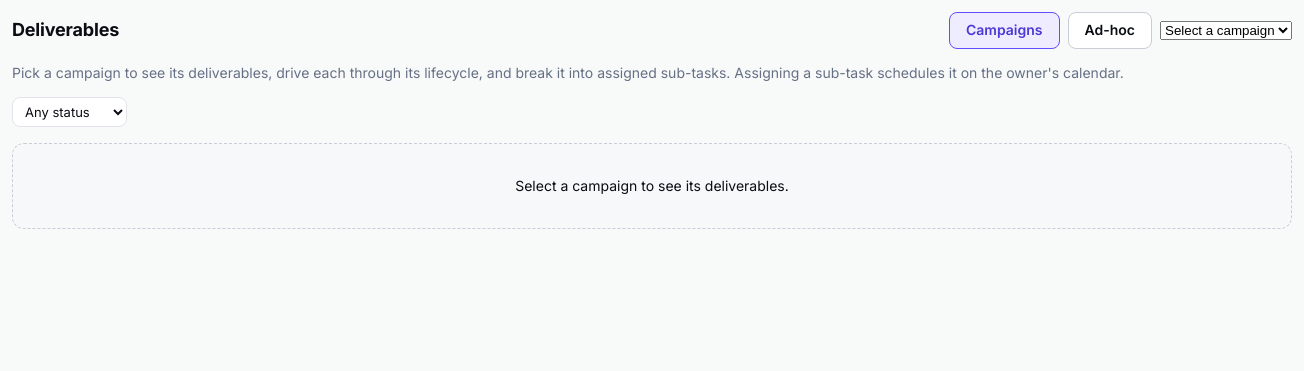
it: DeliverablesPage (ADR-0024, I2 breakdown surface) › an in-progress deliverable is not sent to review by hand (ADR-0118 d.5)
Select "Spring Launch" in the dropdown with test id "deliverables-campaign": (1226, 30) top-left (1160, 21), bottom-right (1292, 40)
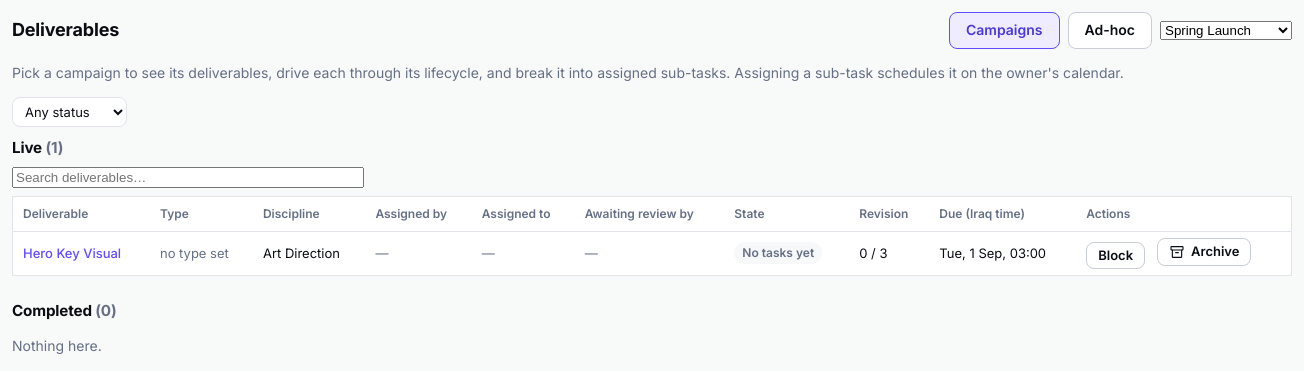
Result: the button with test id "deliverable-block-d1" is shown at top-left (1086, 242), bottom-right (1145, 269)
